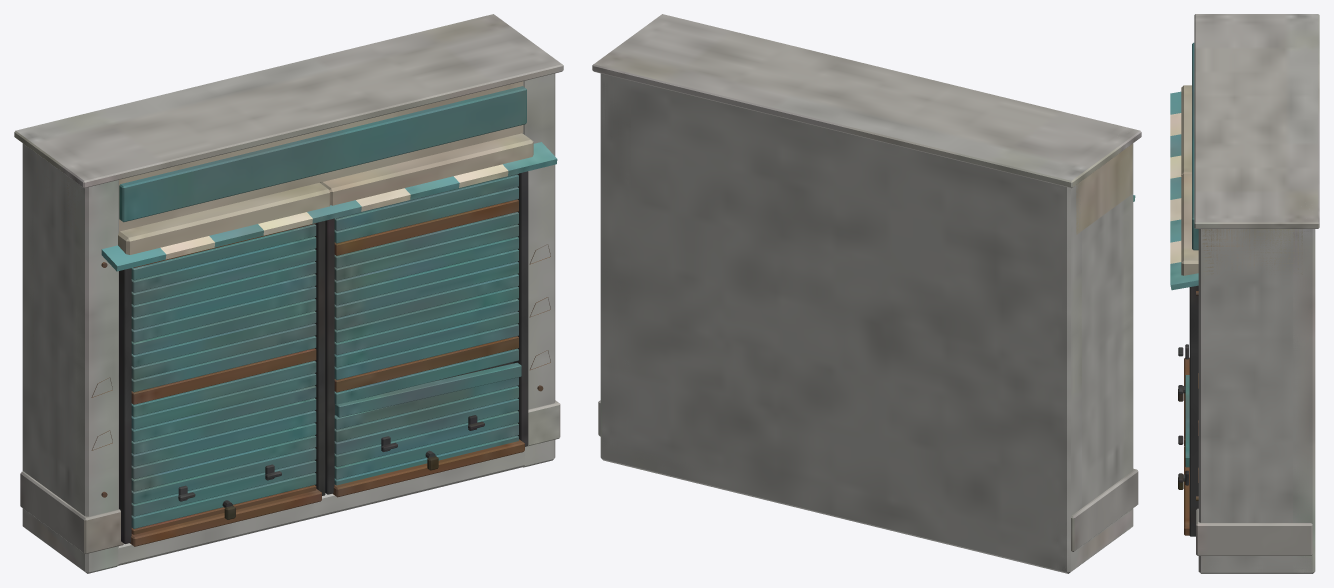
Rendered from R17_shop_front_modules_v1.glb.
3 views of the same model, side by side, from view 1: azimuth 30°, elevation 25°; view 2: azimuth 150°, elevation 25°; view 3: azimuth 270°, elevation 25° (orthographic). The views are drawn at different scales.
Visible parts, largest first — view 1: Foundation plinth; view 2: Foundation plinth; view 3: Foundation plinth.
Boxes of the visible parts, x1,y1,x2,y2 form: Foundation plinth: [14, 14, 563, 573]; Foundation plinth: [592, 14, 1141, 573]; Foundation plinth: [1170, 14, 1319, 573].
Size of the model in its own units: 5 by 3.95 by 1.5.
Materials: 10 (10 with a texture image).
